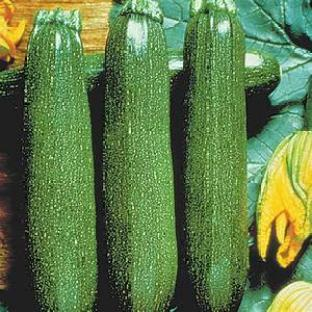Zucchini: (23, 10, 96, 311), (245, 50, 280, 94)
